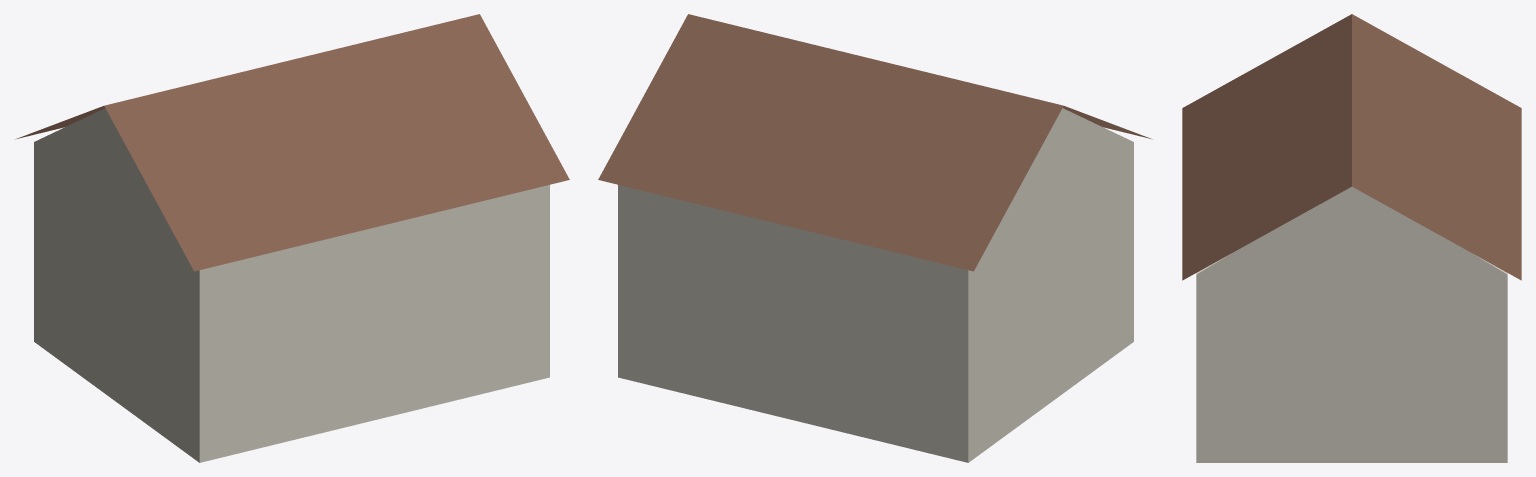
Rendered from House_0_LOD3.glb.
3 views of the same model, side by side, from view 1: azimuth 30°, elevation 25°; view 2: azimuth 150°, elevation 25°; view 3: azimuth 270°, elevation 25° (orthographic). The views are drawn at different scales.
Visible parts, largest first — view 1: House_0_LOD3; view 2: House_0_LOD3; view 3: House_0_LOD3.
Part boxes in pixels (x1,y1,x2,y2): House_0_LOD3: (15,14,569,462); House_0_LOD3: (598,14,1152,462); House_0_LOD3: (1182,14,1521,462).
Size of the model in its own units: 11.8 by 9 by 9.8.
